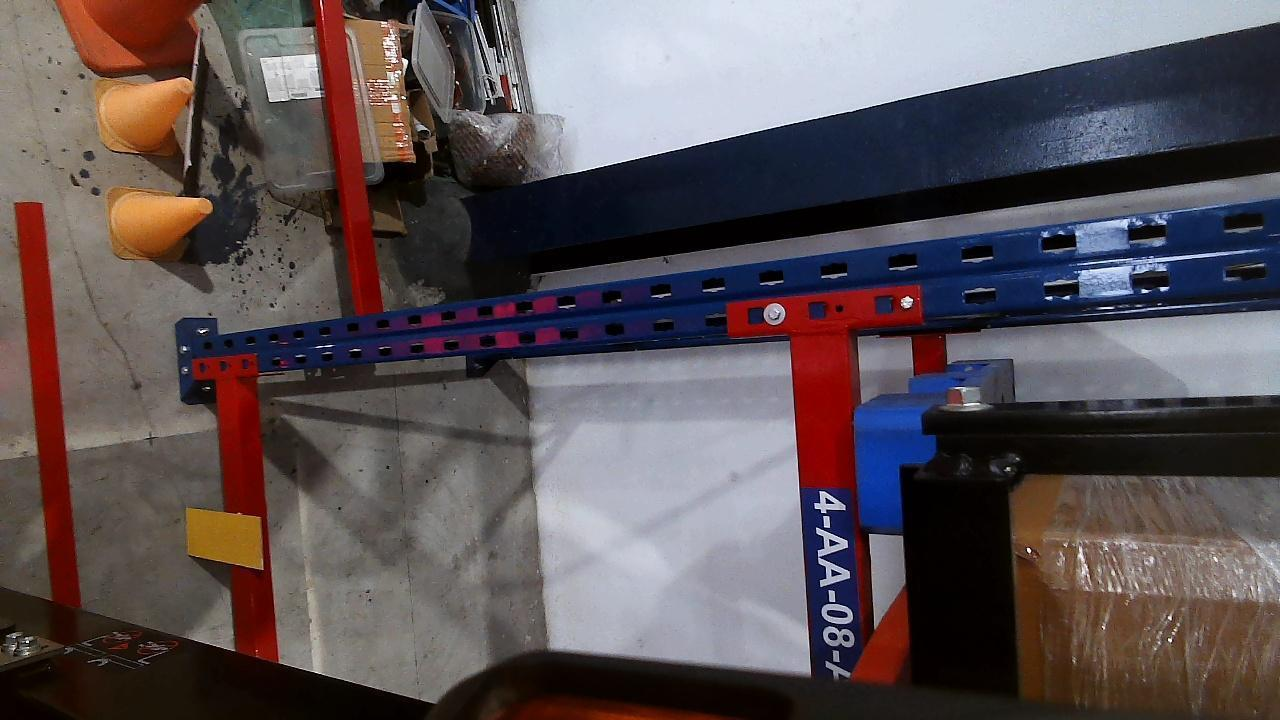red_line: (14, 203, 80, 602)
